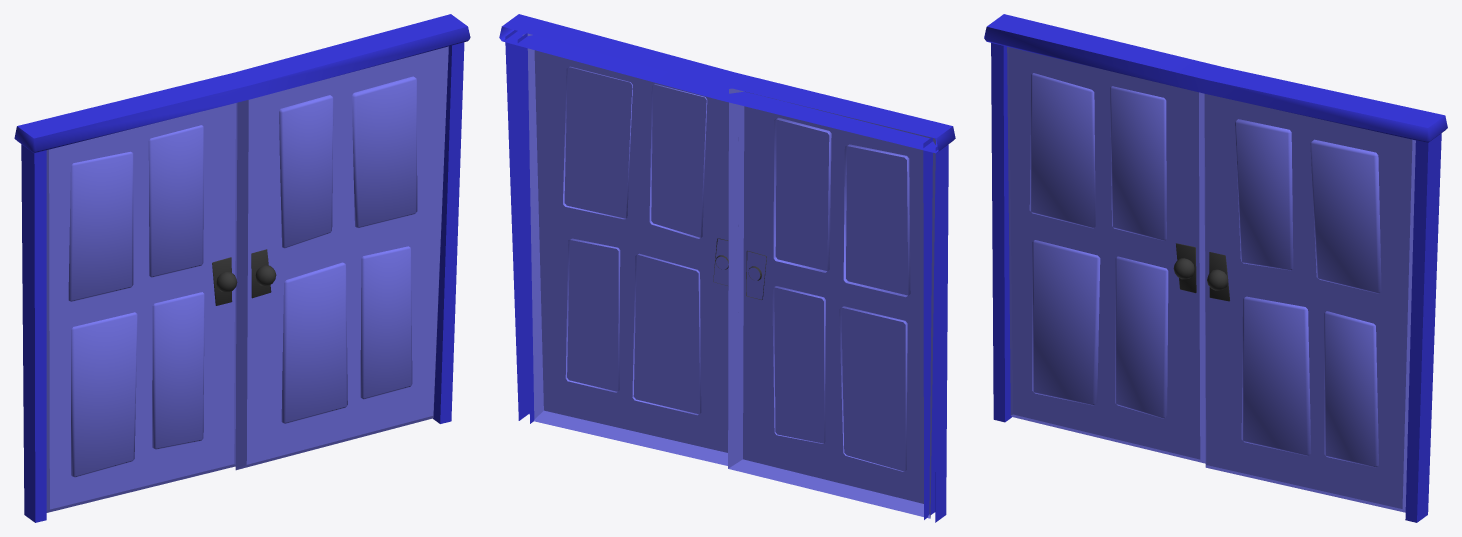
The model's file is DoorDouble.FBX.
3 views of the same model, side by side, from view 1: azimuth 30°, elevation 25°; view 2: azimuth 150°, elevation 25°; view 3: azimuth 330°, elevation 25° (orthographic).
Visible parts, largest first — view 1: doorDouble; view 2: doorDouble; view 3: doorDouble.
Part boxes in pixels (box(x1,y1,x2,y2)): doorDouble: box(14, 14, 470, 522); doorDouble: box(499, 14, 955, 522); doorDouble: box(984, 14, 1447, 522).
Size of the model in its own units: 10.9 by 9.34 by 1.05.
